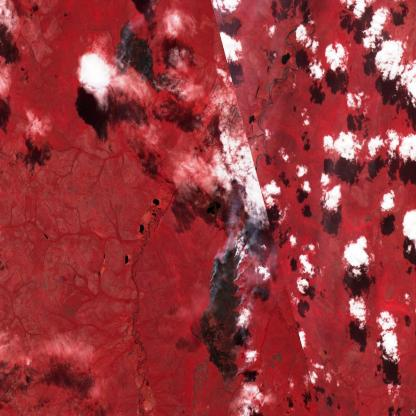fire: (198, 229, 248, 392), (97, 24, 168, 92)
